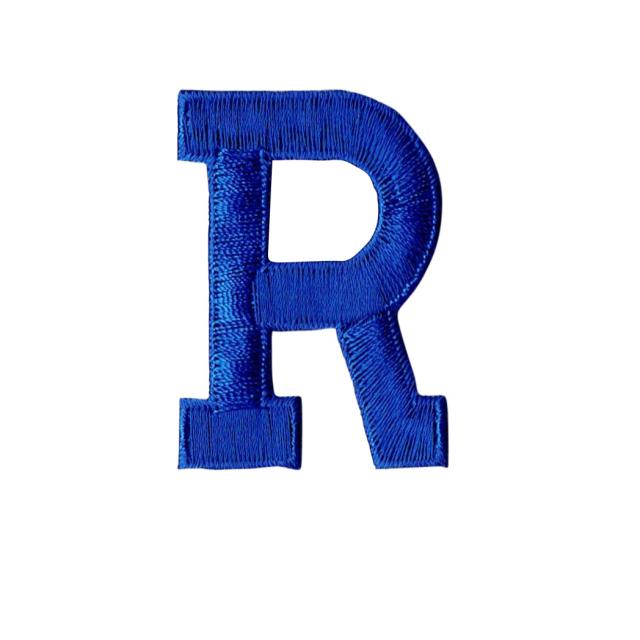R: (144, 56, 474, 518)
